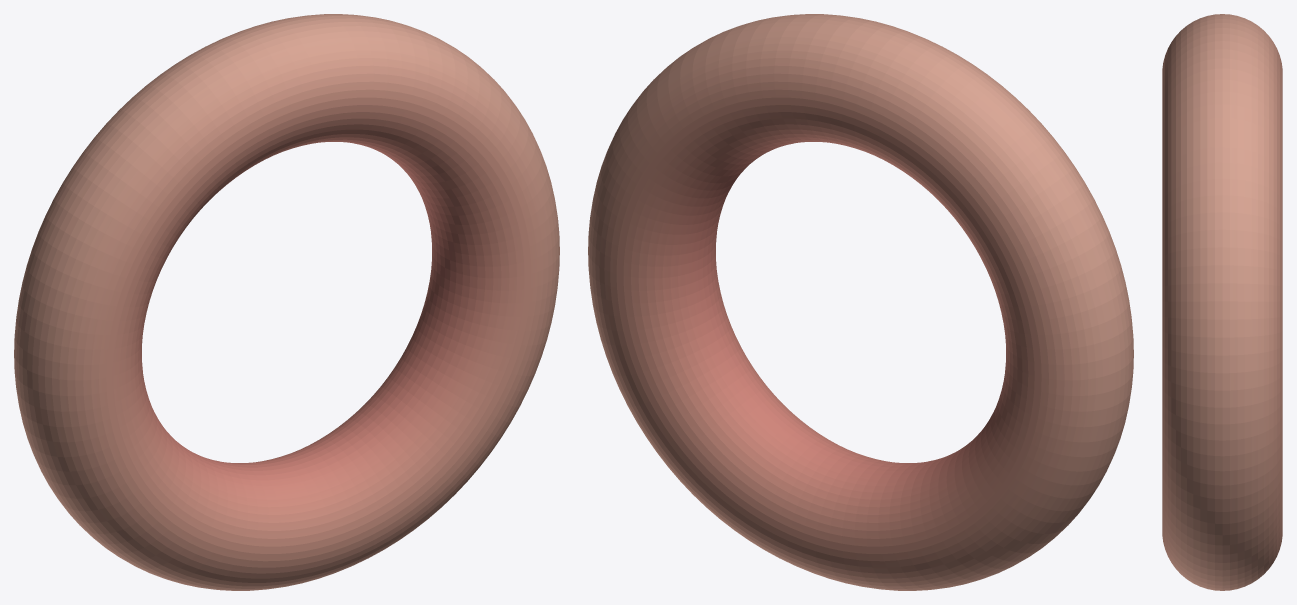
3 renders of one model, left to right at view 1: azimuth 30°, elevation 25°; view 2: azimuth 150°, elevation 25°; view 3: azimuth 270°, elevation 25°, orthographic. The views are drawn at different scales.
Parts seen in each view (by area): view 1: world; view 2: world; view 3: world.
Part boxes in pixels (x1,y1,x2,y2): world: (14, 14, 559, 590); world: (588, 14, 1133, 590); world: (1162, 14, 1282, 590).
Size of the model in its own units: 31.2 by 31.2 by 6.52.
